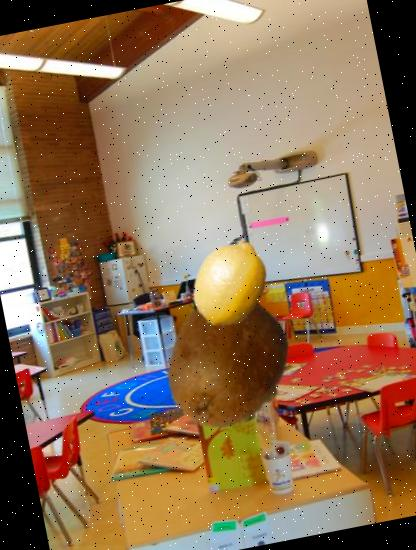Kiwi: (147, 282, 306, 440)
Lemon: (178, 232, 282, 334)
